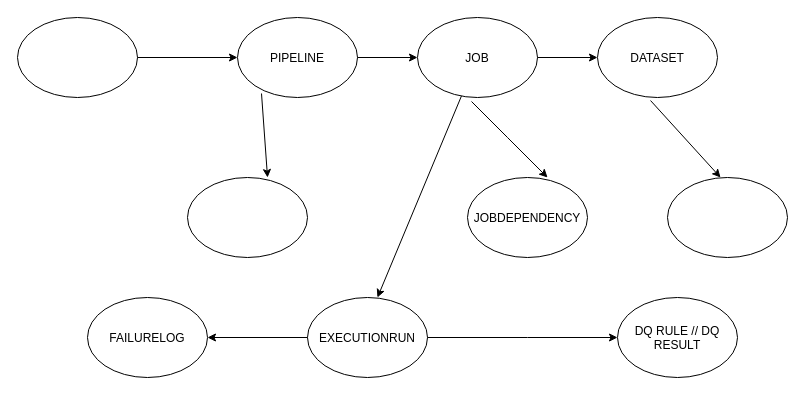
This 805x395 diagram has some shape labels left out. The shapes that lost their labels are listed below. From the top down, each one's centre as x and y in pixels, then its label:
At pixel 77 57: "DATASOURCE".
At pixel 247 217: "PIPELINESOURCE".
At pixel 727 217: "DATASETLINEAGE".
